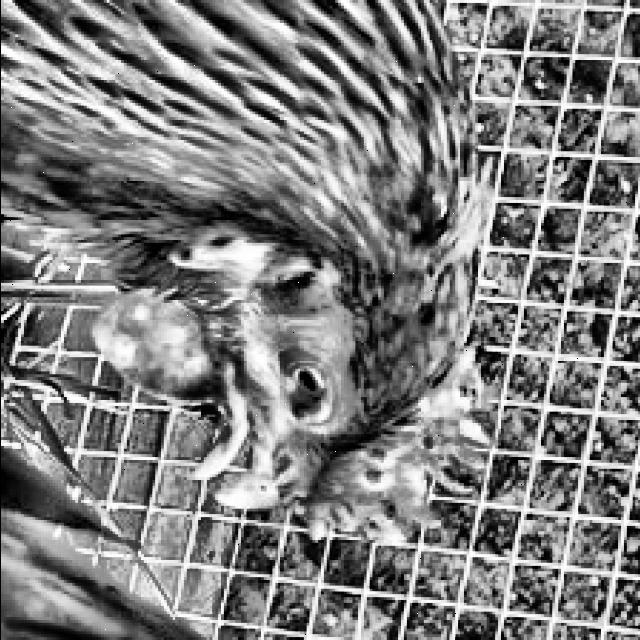Fowlpox: (270, 307, 516, 603)
